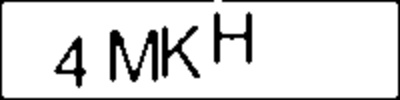4: (52, 34, 89, 90)
H: (209, 9, 256, 68)
K: (158, 23, 204, 80)
M: (105, 27, 161, 83)
